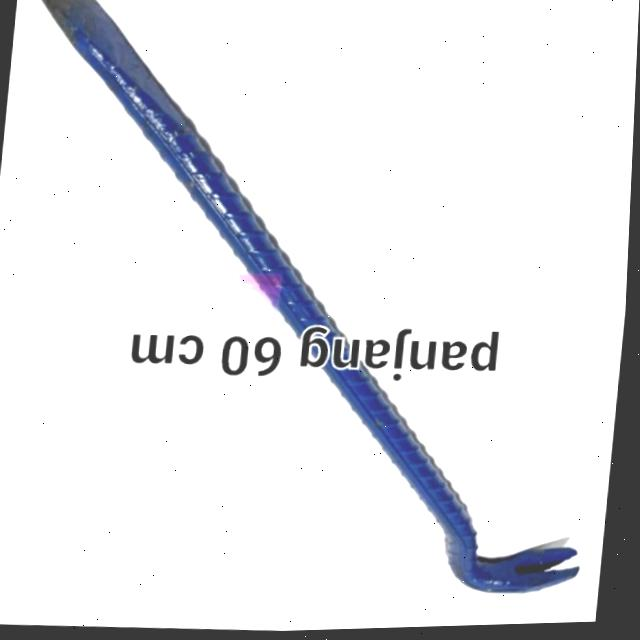crow bar: (36, 0, 594, 604)
